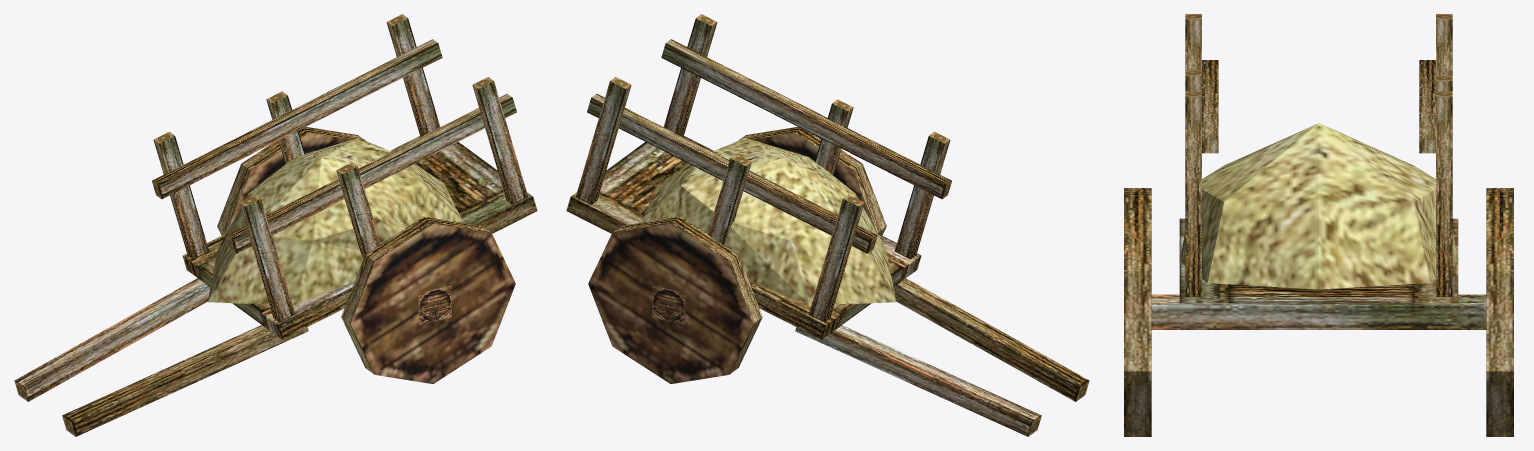
The model's file is hay_cart_large.dae.
3 views of the same model, side by side, from view 1: azimuth 30°, elevation 25°; view 2: azimuth 150°, elevation 25°; view 3: azimuth 270°, elevation 25° (orthographic). The views are drawn at different scales.
Visible parts, largest first — view 1: Object1003; view 2: Object1003; view 3: Object1003.
Boxes of the visible parts, left/top/right/bottom form: Object1003: left=14, top=14, right=537, bottom=436; Object1003: left=566, top=14, right=1089, bottom=436; Object1003: left=1124, top=14, right=1513, bottom=436.
Bounding box in the file's own units: 5.45 × 3.16 × 2.9.
